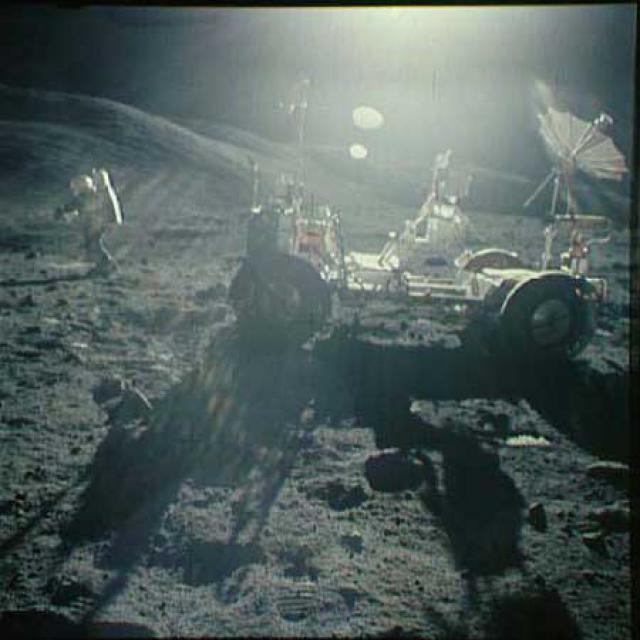artifact: (226, 55, 631, 359)
crater: (98, 294, 223, 339), (144, 537, 256, 579), (303, 480, 371, 512)
rock: (584, 496, 638, 524), (582, 456, 631, 480)
